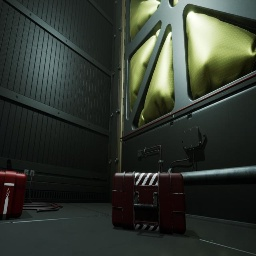FirstAidBox ,: (112, 171, 186, 235), (0, 159, 27, 220)
